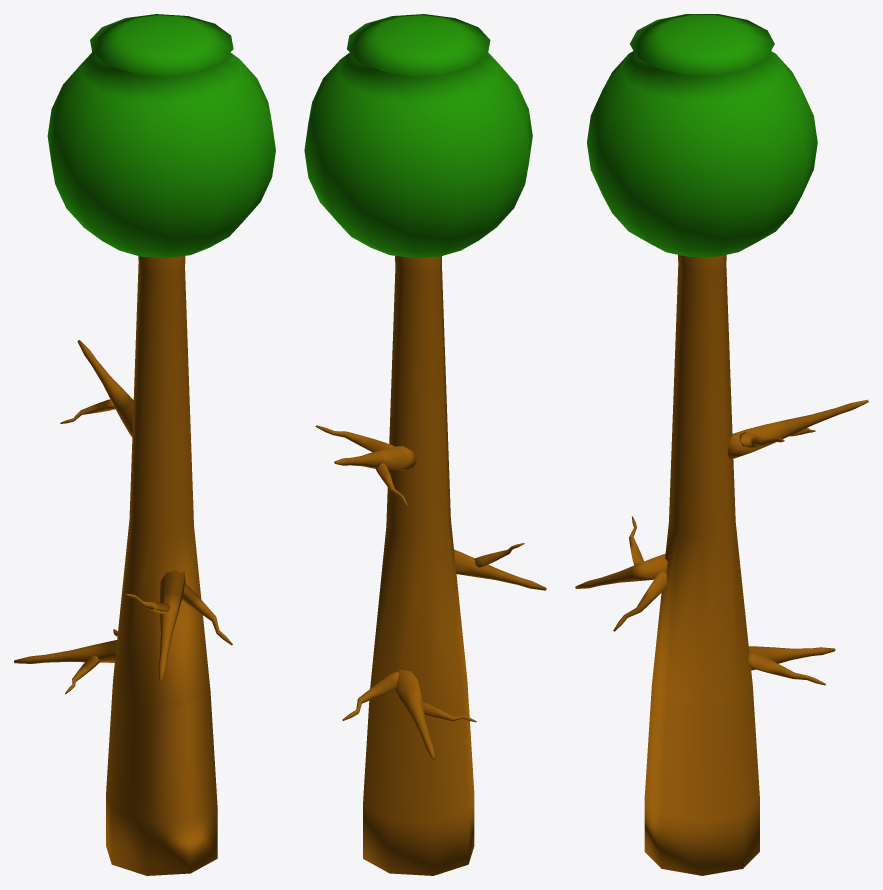
The model's file is treee1.fbx.
3 renders of one model, left to right at view 1: azimuth 30°, elevation 25°; view 2: azimuth 150°, elevation 25°; view 3: azimuth 270°, elevation 25°, orthographic.
Visible parts, largest first — view 1: Cylinder; view 2: Cylinder; view 3: Cylinder.
Boxes of the visible parts, x1=… form: Cylinder: x1=14, y1=14, x2=275, y2=875; Cylinder: x1=304, y1=14, x2=546, y2=875; Cylinder: x1=575, y1=14, x2=868, y2=875.
Size of the model in its own units: 195 by 788 by 254.
